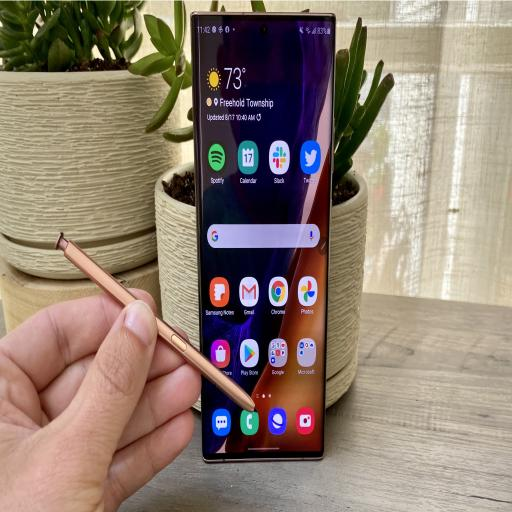phone: (189, 13, 337, 462)
